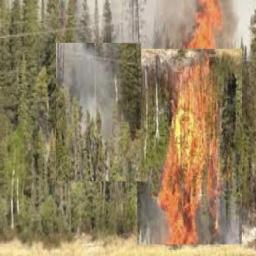Low smoke: (55, 39, 132, 150), (39, 3, 154, 46)
Medium fire: (158, 0, 232, 243)
